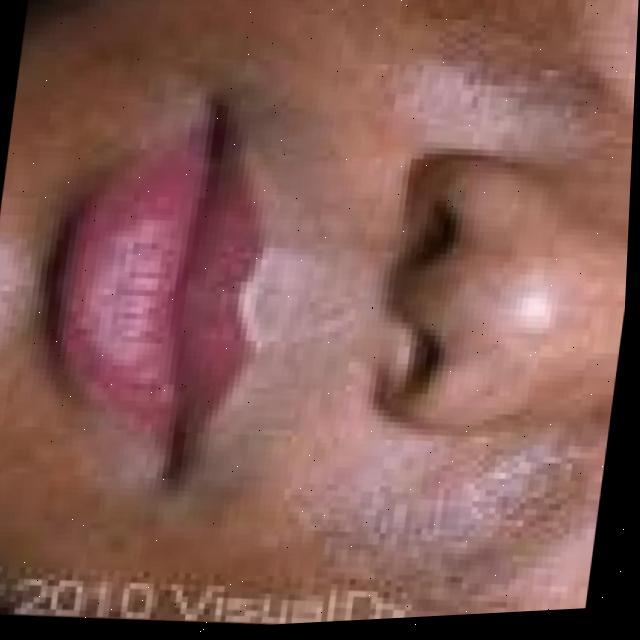Melasma: (394, 401, 595, 584), (441, 0, 632, 124)
